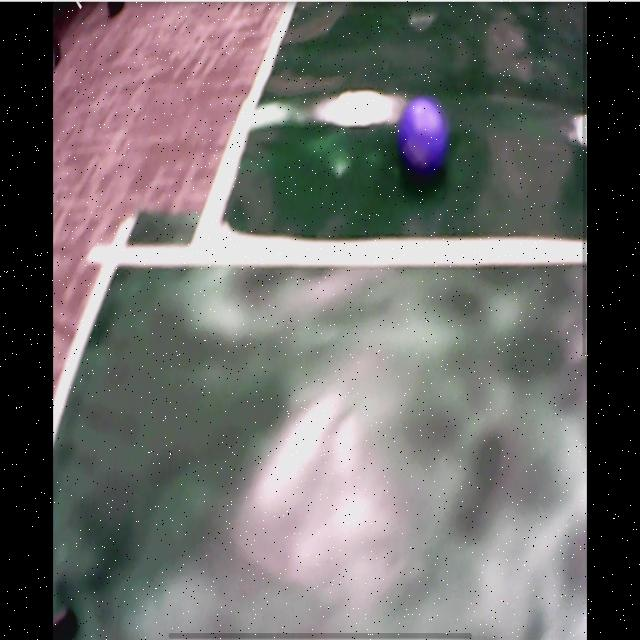ball: (401, 98, 446, 172)
